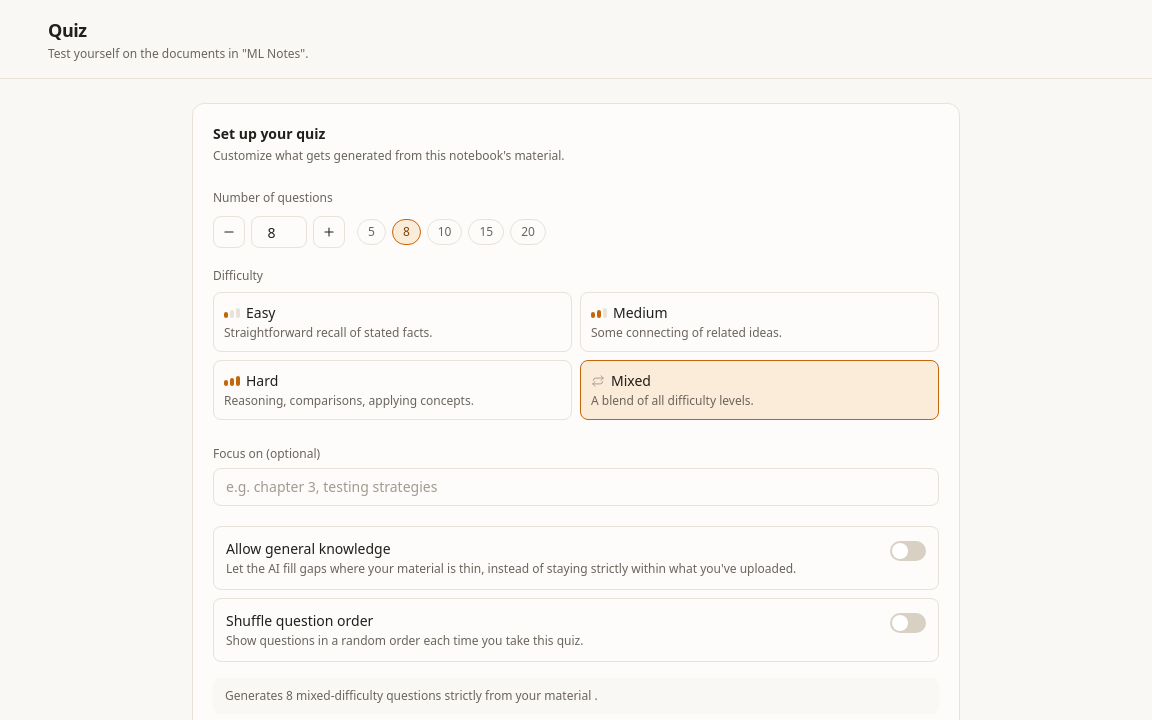
Test: QuizView › clamps the question count to the allowed range on blur
Replace the text in the number field labelled "Number of questions" with "999" at (279, 232), box [251,216,307,248]
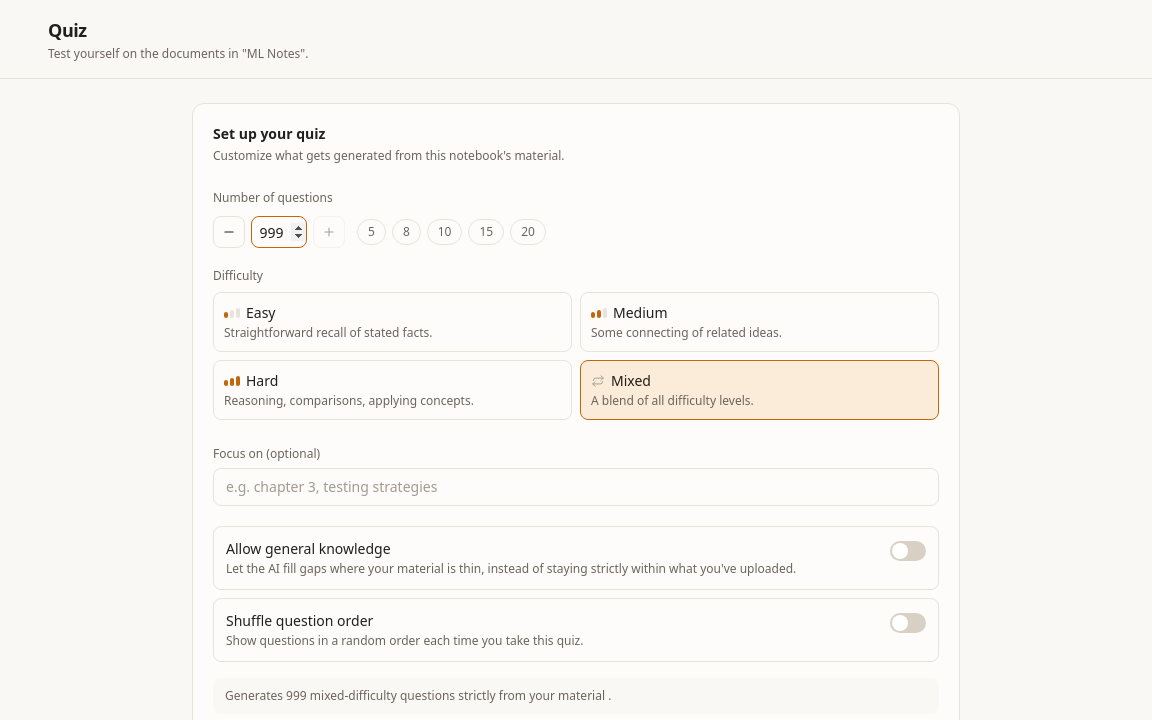
Press Tab
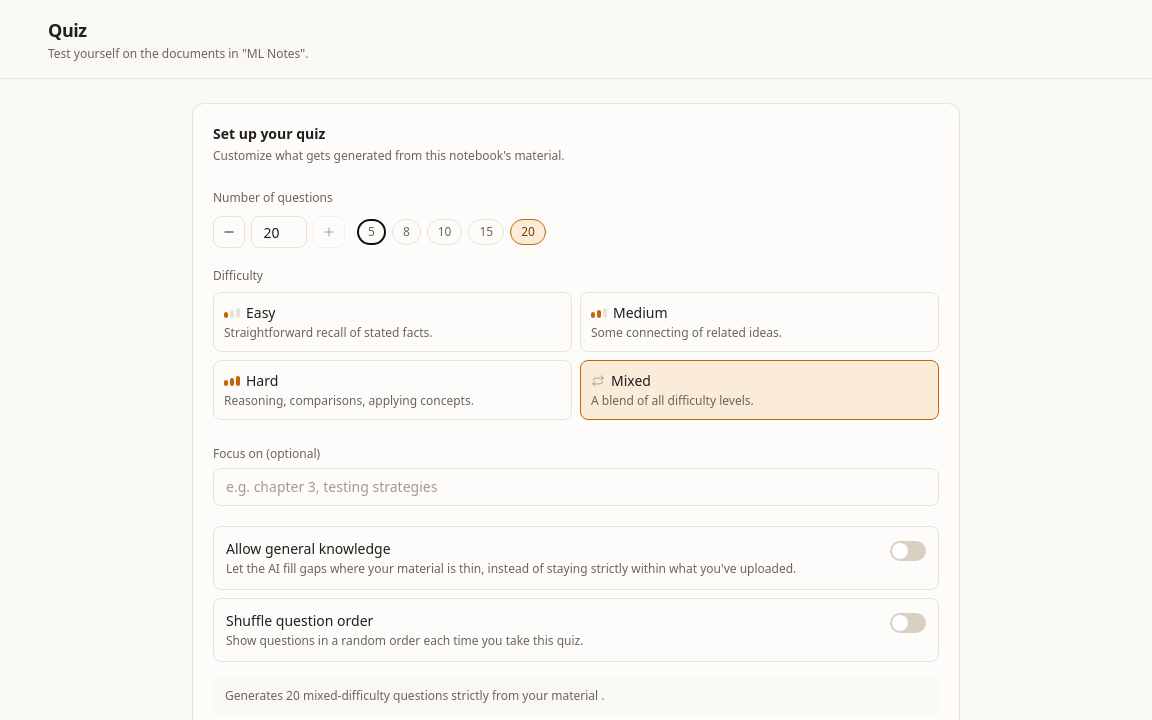
Expected: the number field labelled "Number of questions" holds "20", [251,216,307,248]
